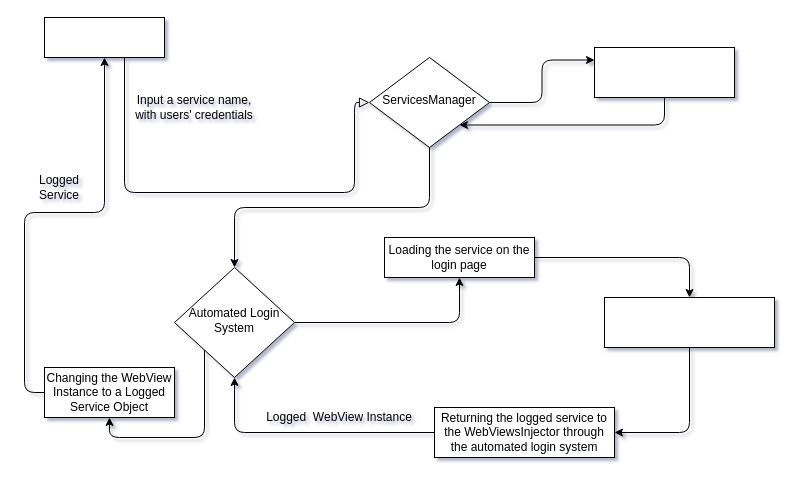
Some shapes in this 798 by 481 pixel diagram are drawn without their labels. Here are the shapes that lost their labels. From the top down, the centre of each, then its label:
the point at 104,37: WebViewsInjector
the point at 664,72: Find dynamically the appropriate service class
the point at 689,322: Javascript injection using the users' credentials
